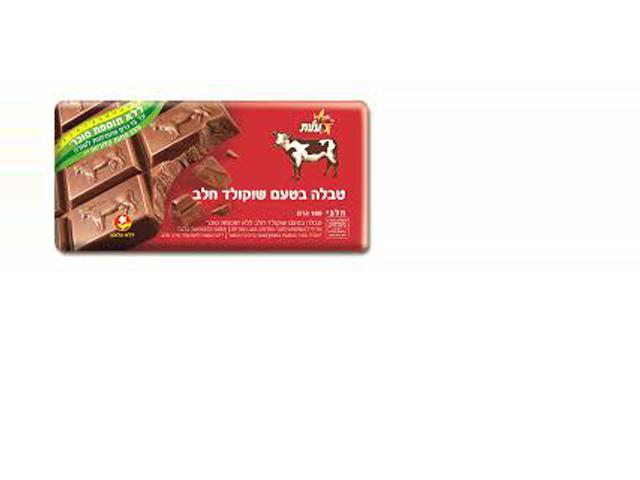chocolate: (51, 95, 375, 260)
